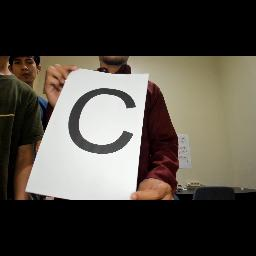c: (65, 84, 141, 160)
